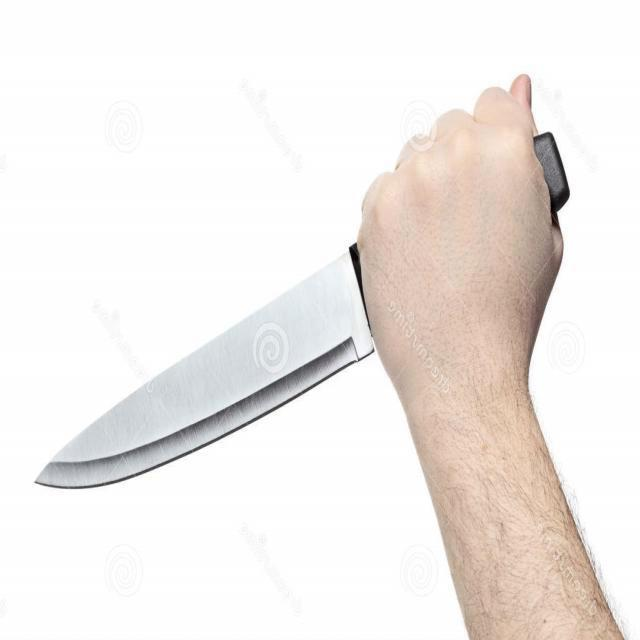Knife: (36, 252, 374, 488)
Knife_Handle: (28, 72, 632, 639)
